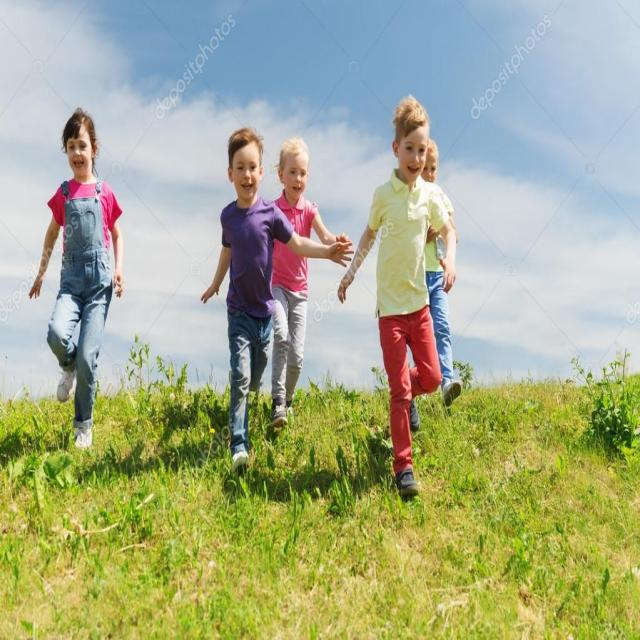Person: (200, 128, 354, 474), (338, 96, 456, 498), (29, 109, 123, 450), (269, 133, 352, 423)
